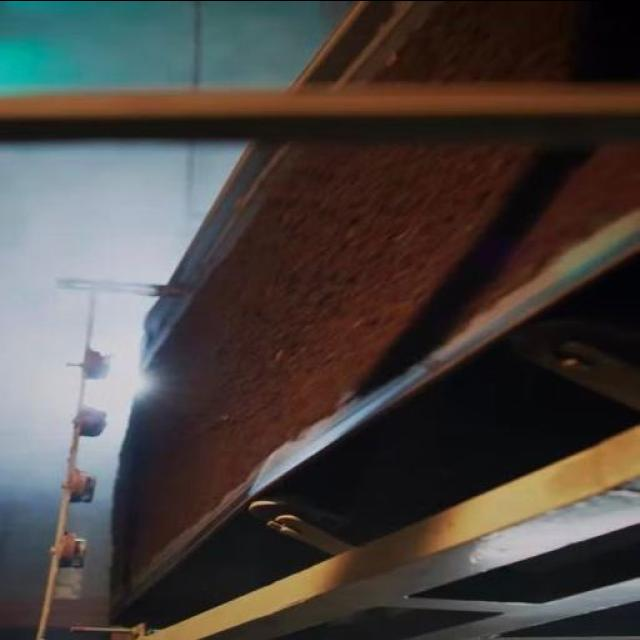conveyor: (119, 0, 640, 617)
